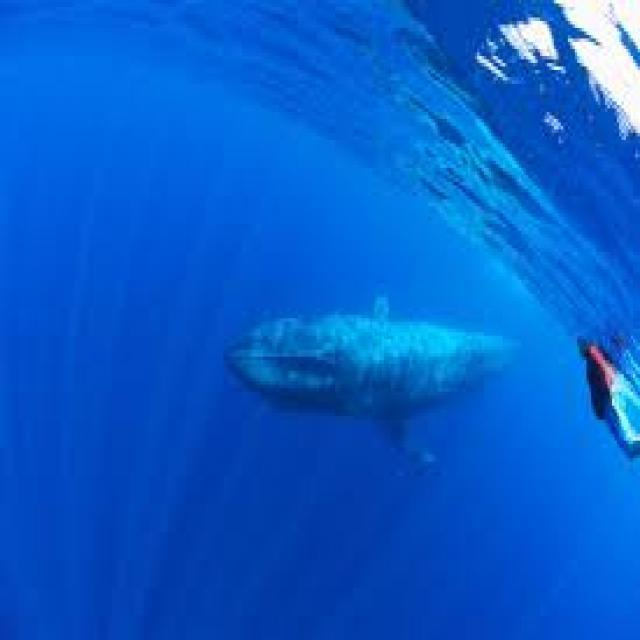blue_whale: (214, 266, 547, 552)
